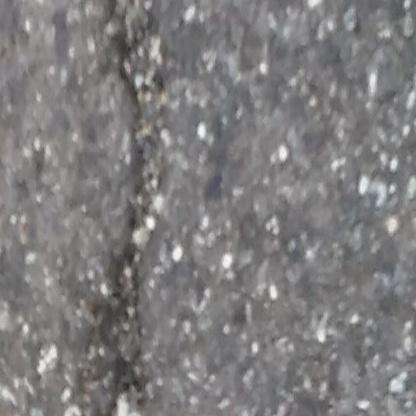Cracks: (76, 0, 174, 416)
